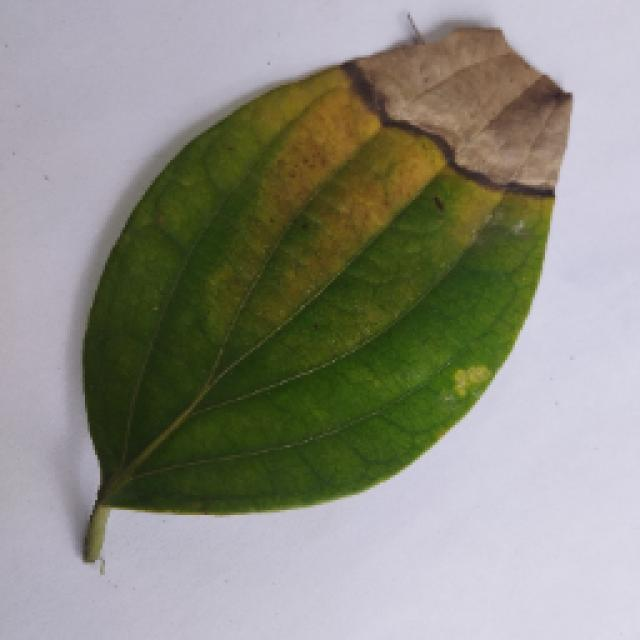footrot: (63, 32, 585, 578)
